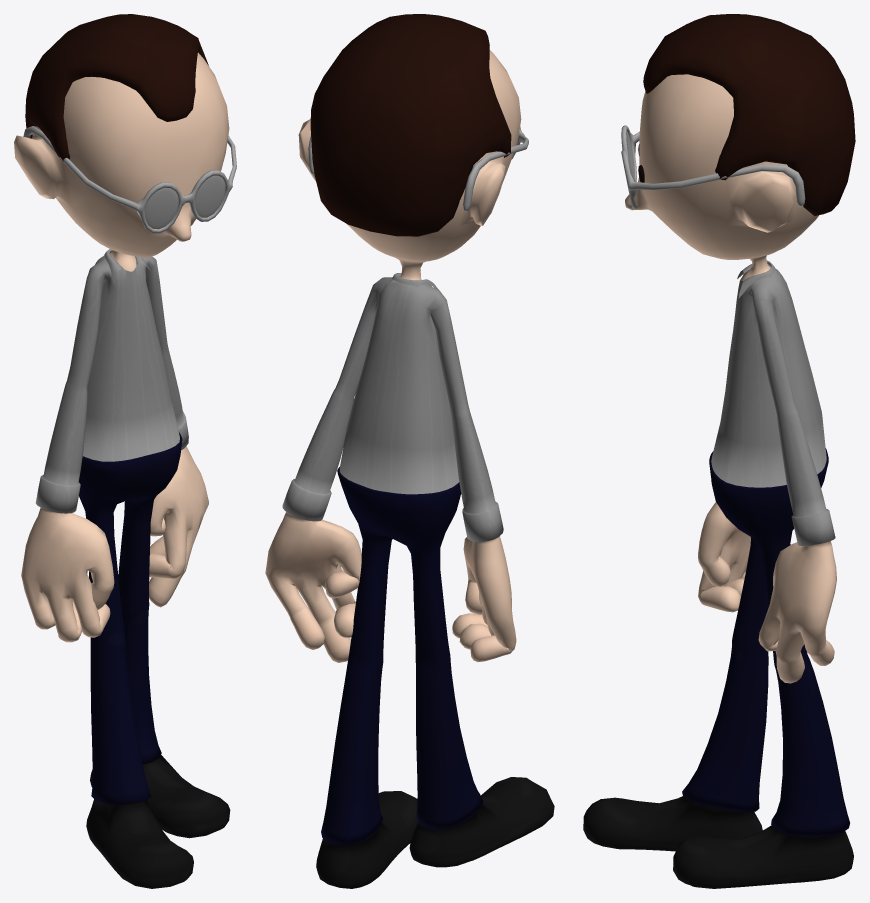
File: Animation_Cartoon_Starter_000180.obj
The picture shows the model from 3 angles, left to right: view 1: azimuth 30°, elevation 25°; view 2: azimuth 150°, elevation 25°; view 3: azimuth 270°, elevation 25°; orthographic projection. The views are drawn at different scales.
Parts seen in each view (by area): view 1: bm_09; view 2: bm_09; view 3: bm_09.
Boxes of the visible parts, <box> form: bm_09: <box>14,14,236,888</box>; bm_09: <box>265,14,554,888</box>; bm_09: <box>583,14,855,888</box>.
Bounding box in the file's own units: 0.4125 × 1.51 × 0.4485.
Materials: 3 (1 with a texture image).
